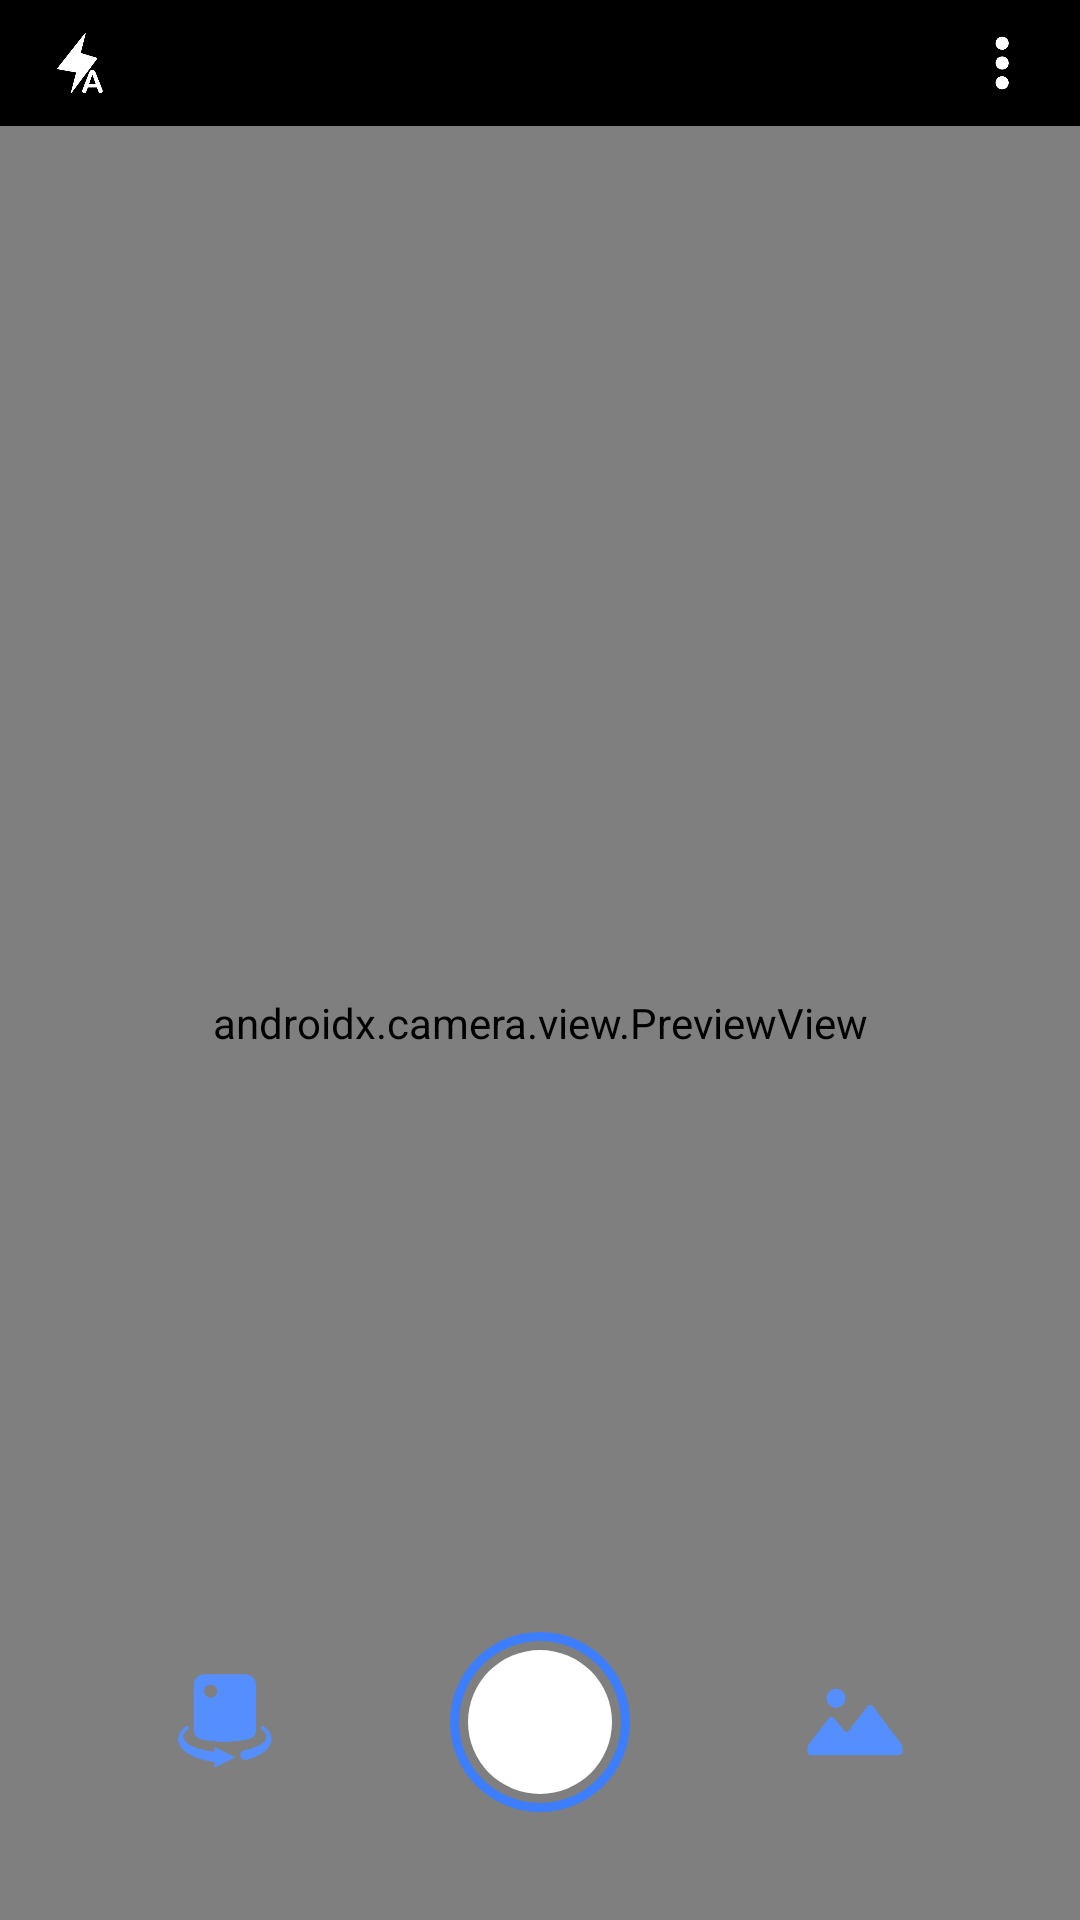

Icons on this 1080px x 1920px Android screen, each with the point to tap as [x,y]:
flashlight auto: [80,63]
flip camera: [225,1721]
import: [855,1722]
more: [1002,63]
